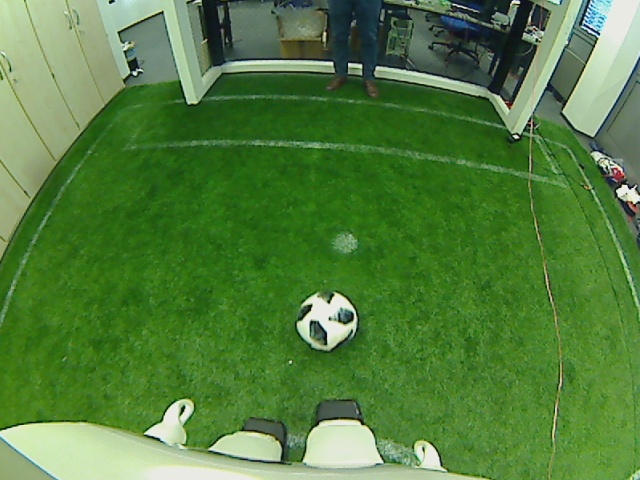ball: (293, 290, 360, 352)
